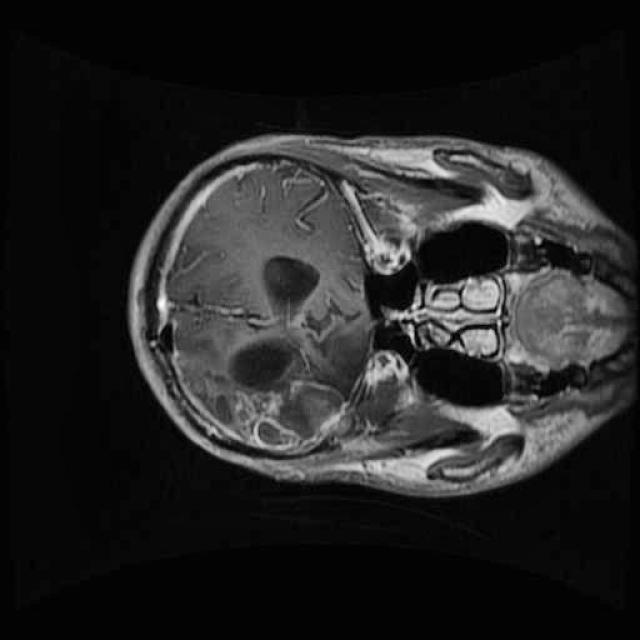Non-Tumor: (234, 345, 360, 470)
